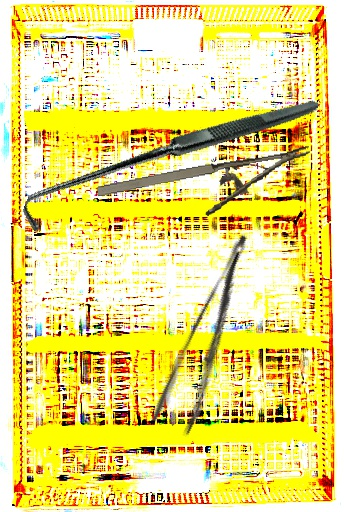Dressing Forceps: (147, 229, 280, 439)
Hook Surgical: (17, 15, 320, 312)
Needle Holder: (95, 145, 318, 233)
